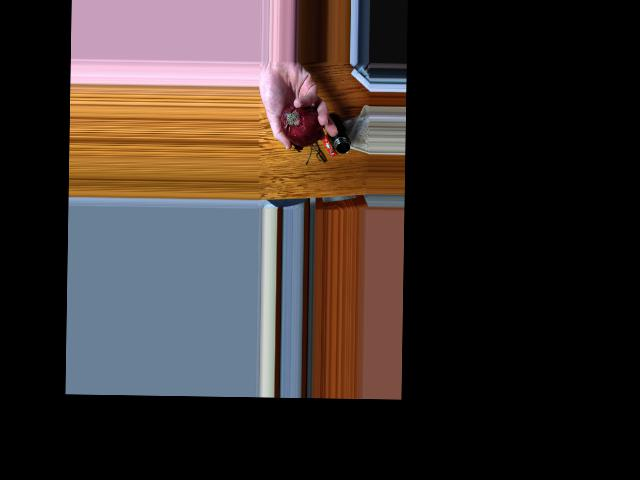onion: (281, 103, 319, 146)
